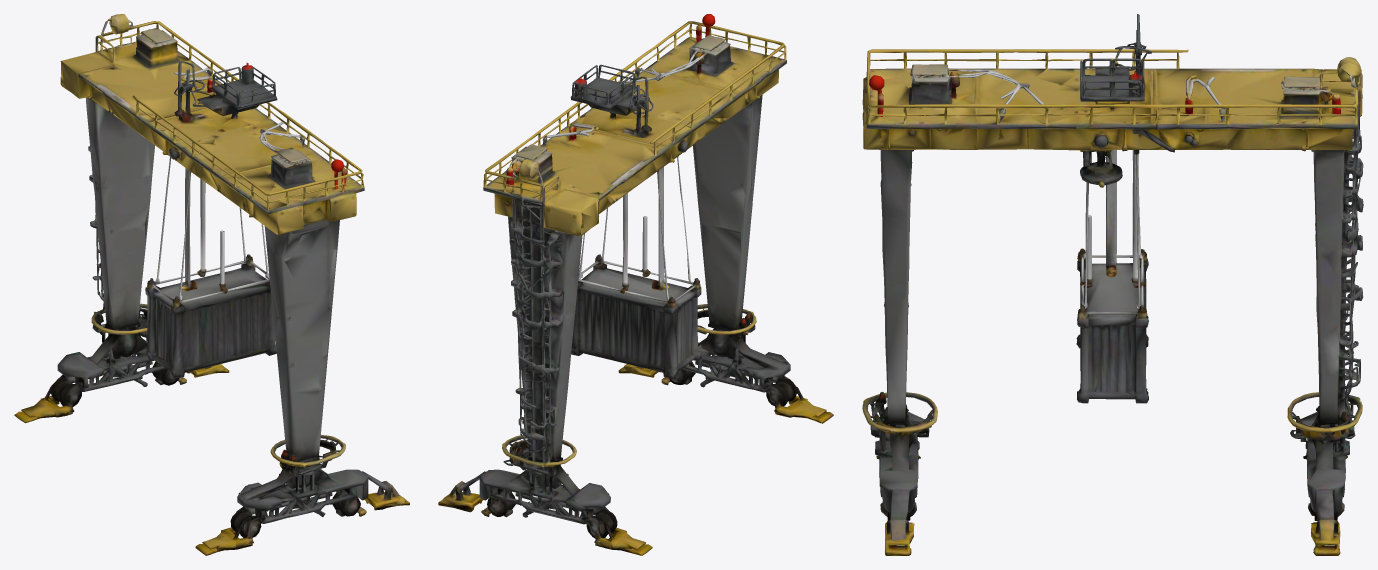
Rendered from crane.glb.
3 renders of one model, left to right at view 1: azimuth 30°, elevation 25°; view 2: azimuth 150°, elevation 25°; view 3: azimuth 270°, elevation 25°, orthographic. The views are drawn at different scales.
Parts seen in each view (by area): view 1: node_6bfabeb0-cc59-4e9b-9b04-92fe615e3192; view 2: node_6bfabeb0-cc59-4e9b-9b04-92fe615e3192; view 3: node_6bfabeb0-cc59-4e9b-9b04-92fe615e3192.
Boxes of the visible parts, x1,y1,x2,y2 form: node_6bfabeb0-cc59-4e9b-9b04-92fe615e3192: (14,14,409,555); node_6bfabeb0-cc59-4e9b-9b04-92fe615e3192: (438,14,833,555); node_6bfabeb0-cc59-4e9b-9b04-92fe615e3192: (862,14,1363,555).
Size of the model in its own units: 0.5402 by 0.9997 by 0.9625.
1 material, 1 textured.
